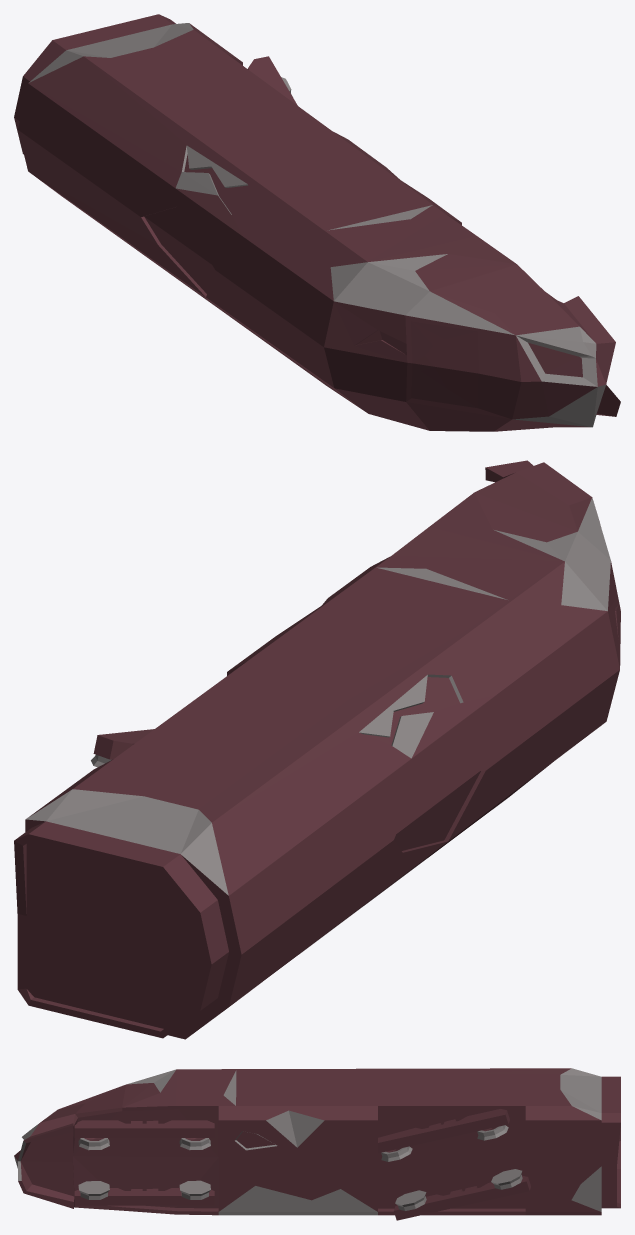
File: train-speed-apocalypse-a.fbx
3 views of the same model, one above another, from view 1: azimuth 30°, elevation 25°; view 2: azimuth 150°, elevation 25°; view 3: azimuth 270°, elevation 25° (orthographic). The views are drawn at different scales.
Visible parts, largest first — view 1: train-speed-apocalypse-a; view 2: train-speed-apocalypse-a; view 3: train-speed-apocalypse-a.
Boxes of the visible parts, x1=… form: train-speed-apocalypse-a: x1=14, y1=14, x2=620, y2=431; train-speed-apocalypse-a: x1=14, y1=460, x2=620, y2=1039; train-speed-apocalypse-a: x1=14, y1=1068, x2=620, y2=1220.
Size of the model in its own units: 4.12 by 3.15 by 15.61.
